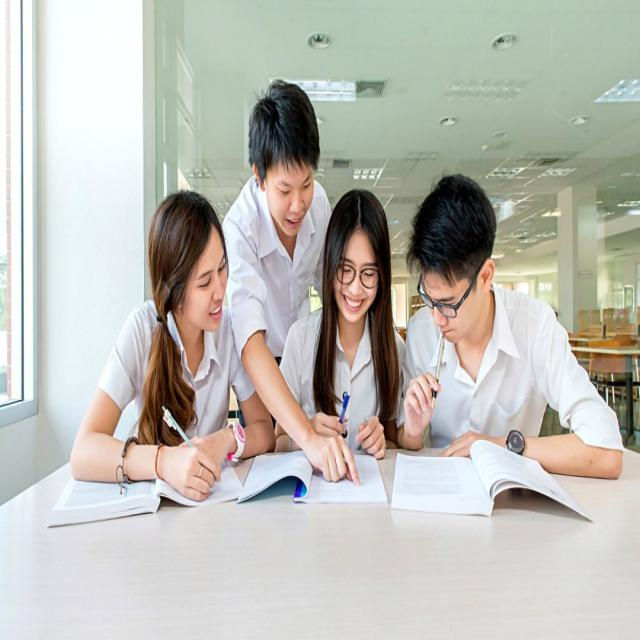Face and Hair: (403, 165, 501, 354), (244, 72, 324, 240), (145, 184, 230, 338), (319, 176, 397, 329)
